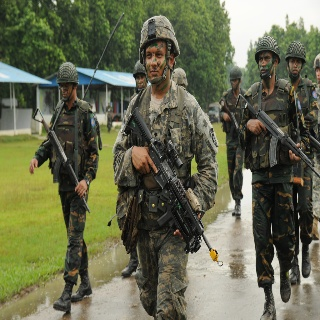rifle: (130, 107, 220, 266), (234, 93, 320, 181), (31, 107, 92, 213)
